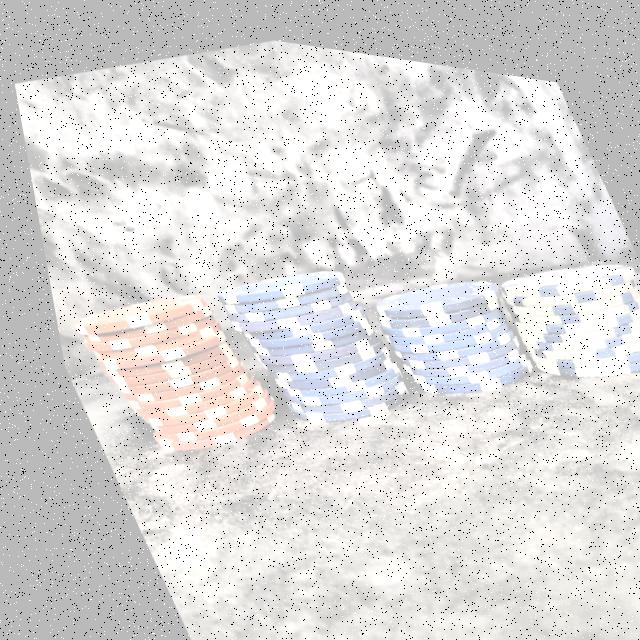Chip: (45, 242, 278, 479), (191, 219, 411, 456), (468, 203, 640, 398), (350, 238, 530, 412)
